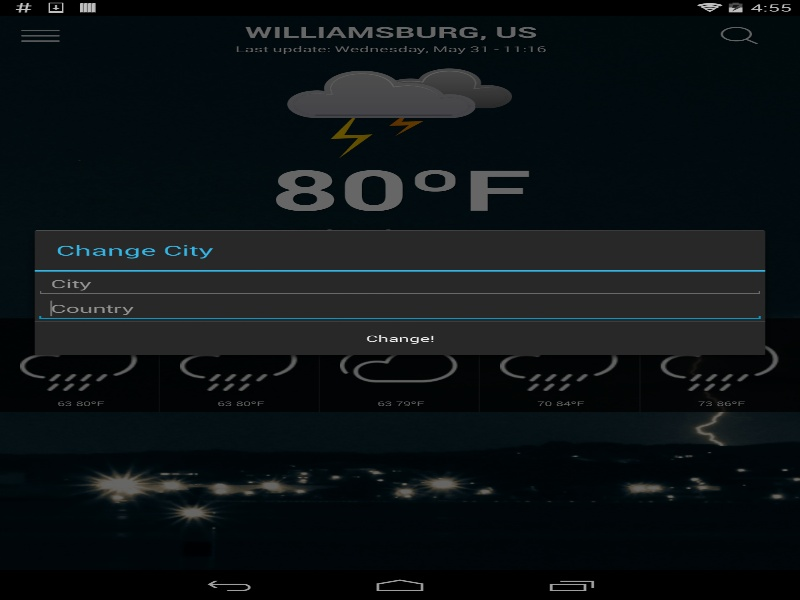Button: (34, 321, 765, 355)
Input: (34, 271, 765, 296), (34, 296, 765, 320)
